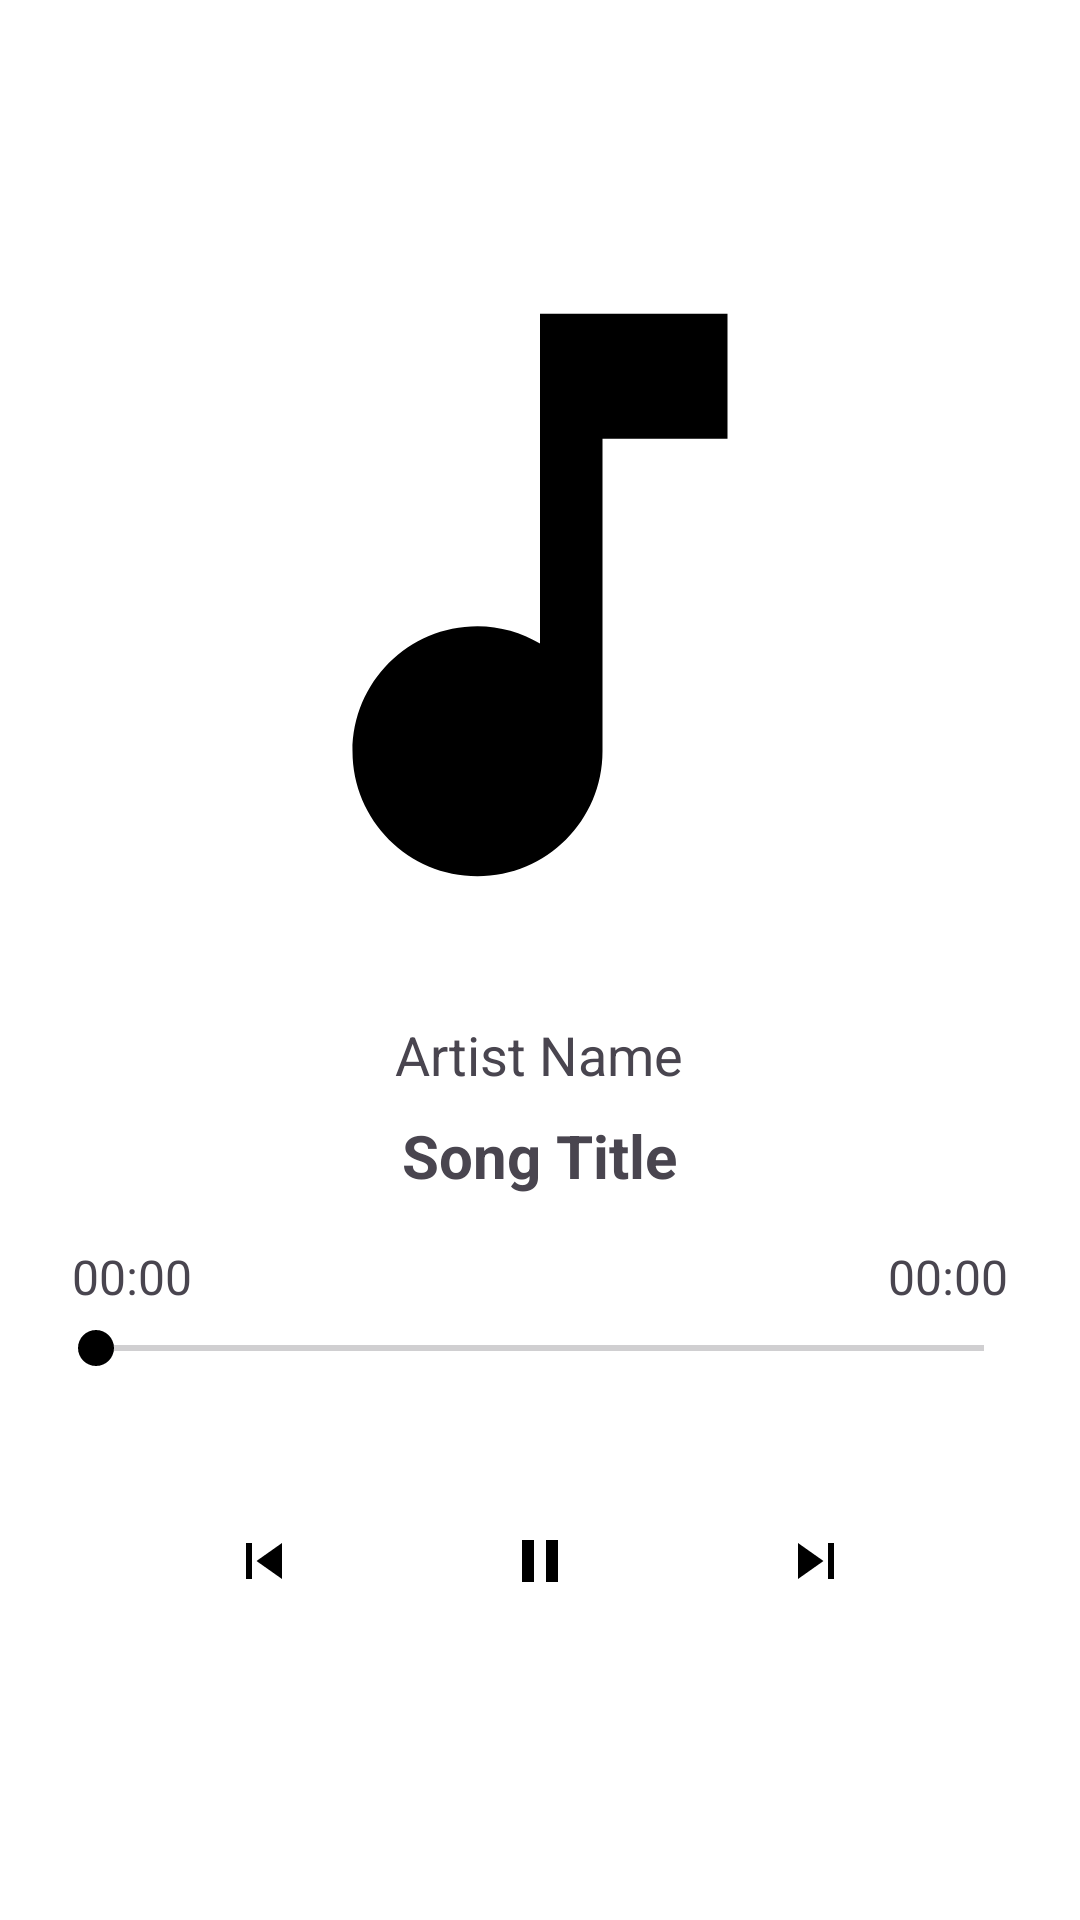

Named icons in this screenshot (1080 × 1920) and their centers, point (x, y):
Next: point (816, 1561)
Play/Pause: point (540, 1561)
Previous: point (264, 1561)
